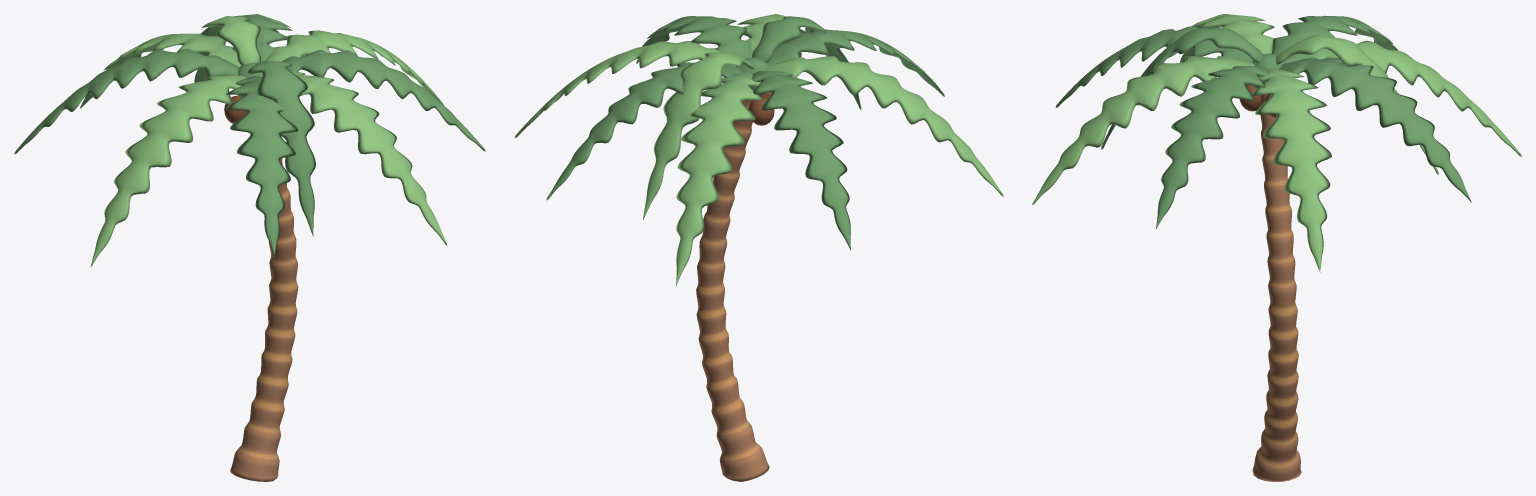
Rendered from palm-tree.glb.
3 views of the same model, side by side, from view 1: azimuth 30°, elevation 25°; view 2: azimuth 150°, elevation 25°; view 3: azimuth 270°, elevation 25° (orthographic).
Parts seen in each view (by area): view 1: palm-tree_body; view 2: palm-tree_body; view 3: palm-tree_body.
Boxes of the visible parts, left/top/right/bottom form: palm-tree_body: left=14, top=14, right=485, bottom=481; palm-tree_body: left=514, top=14, right=1003, bottom=481; palm-tree_body: left=1032, top=14, right=1521, bottom=481.
Size of the model in its own units: 5.18 by 5.09 by 5.18.
Materials: 1 (1 with a texture image).
